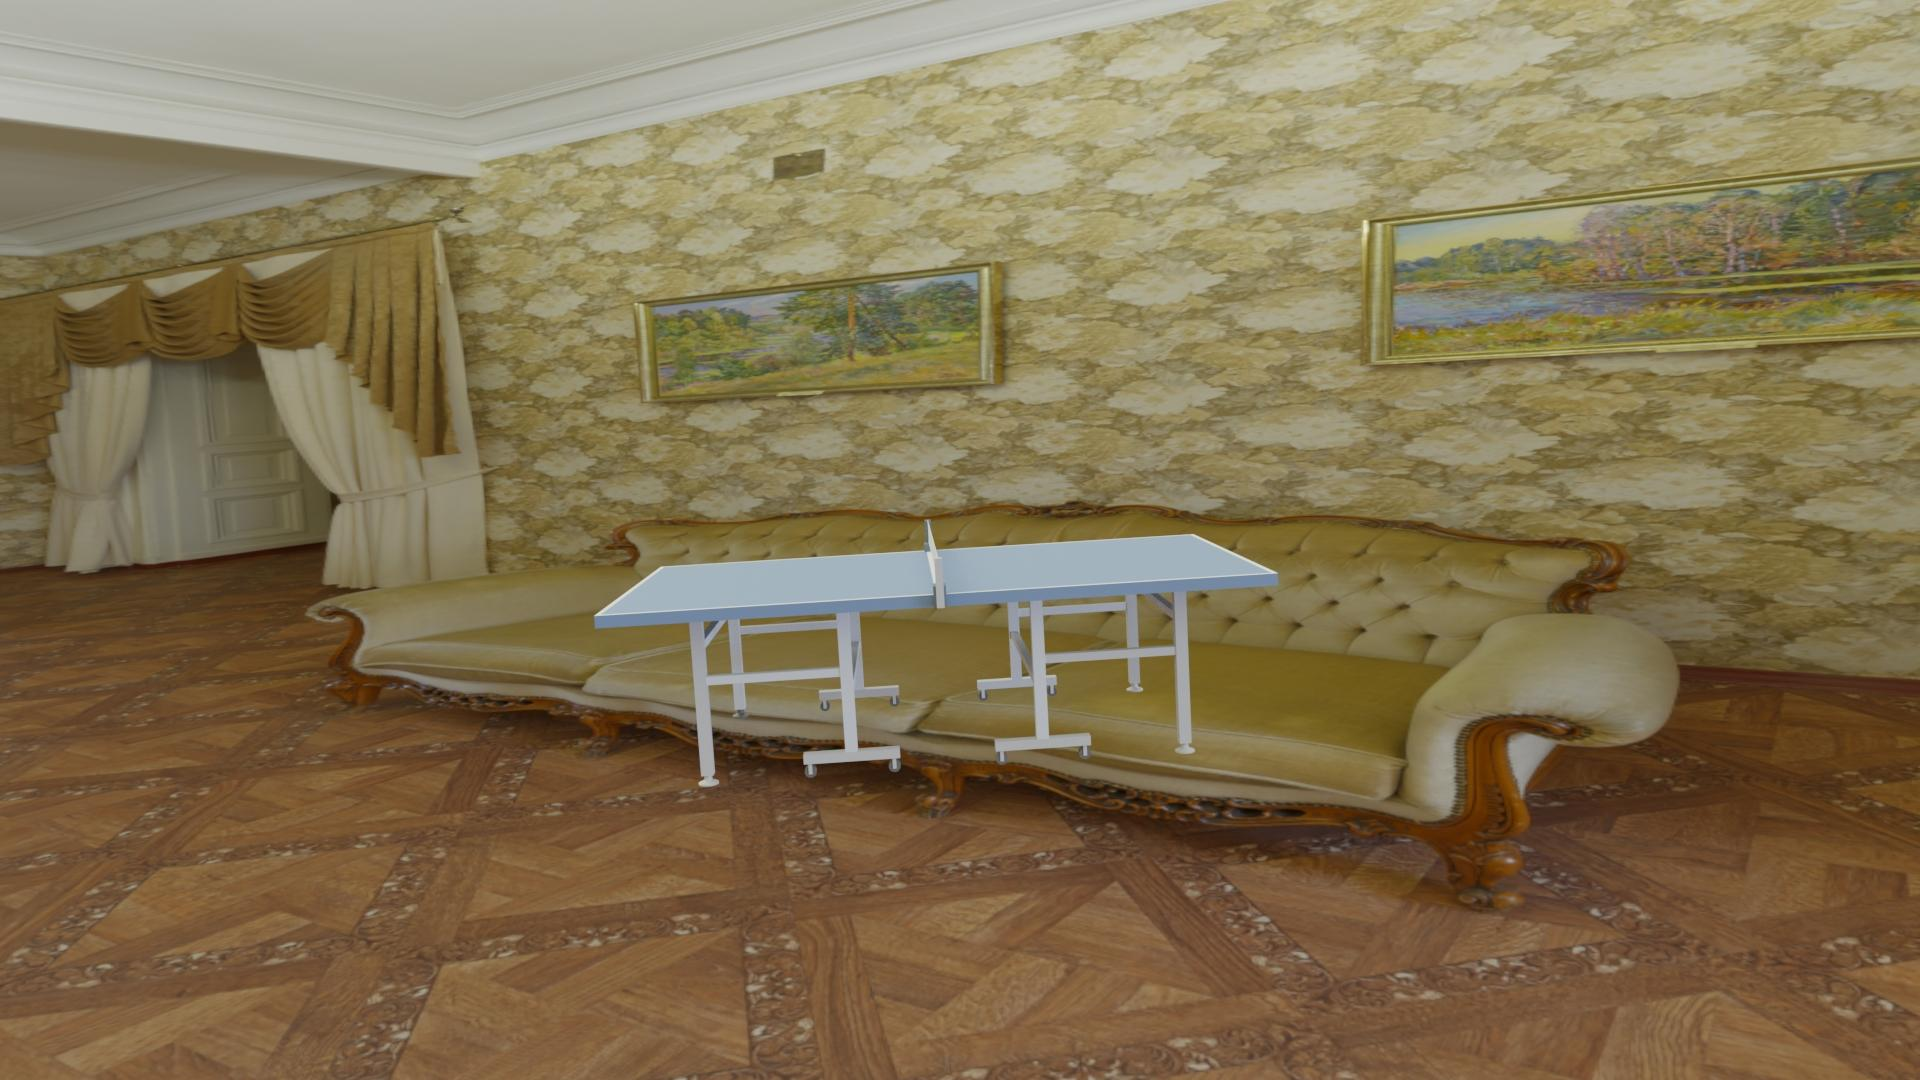table: (600, 535, 1271, 615)
